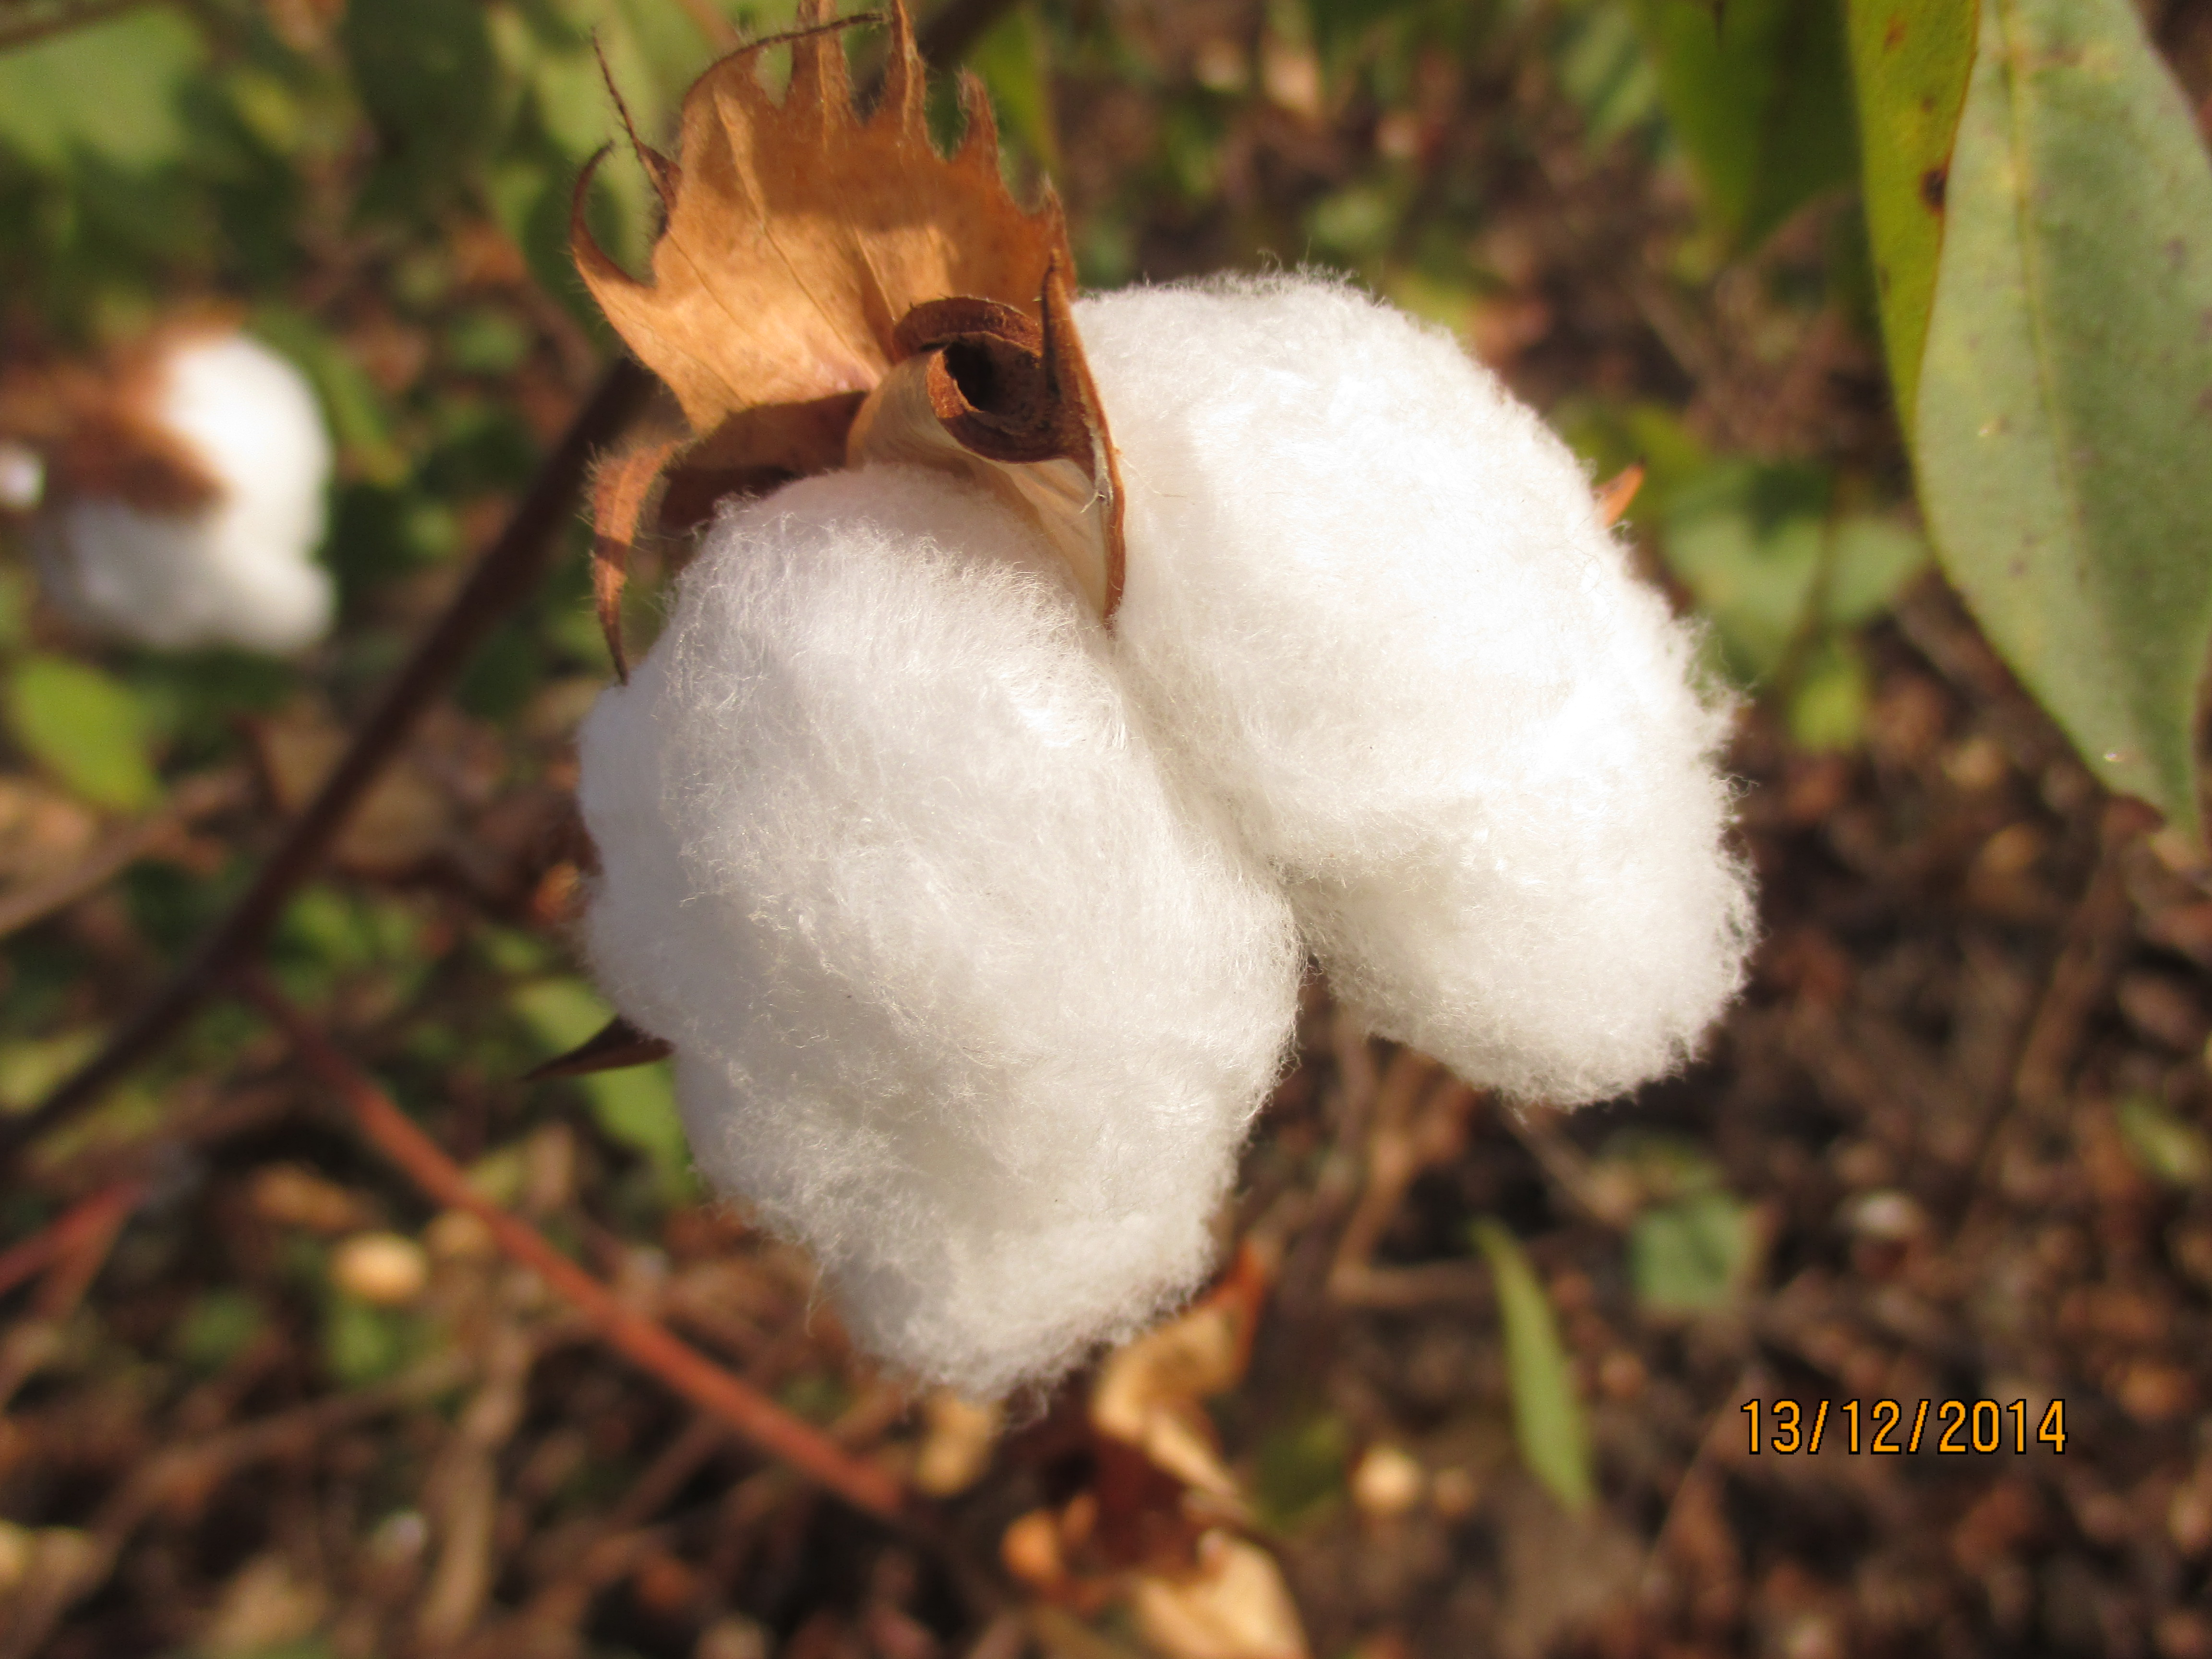cotton: (570, 265, 1768, 1364), (26, 333, 373, 657)
